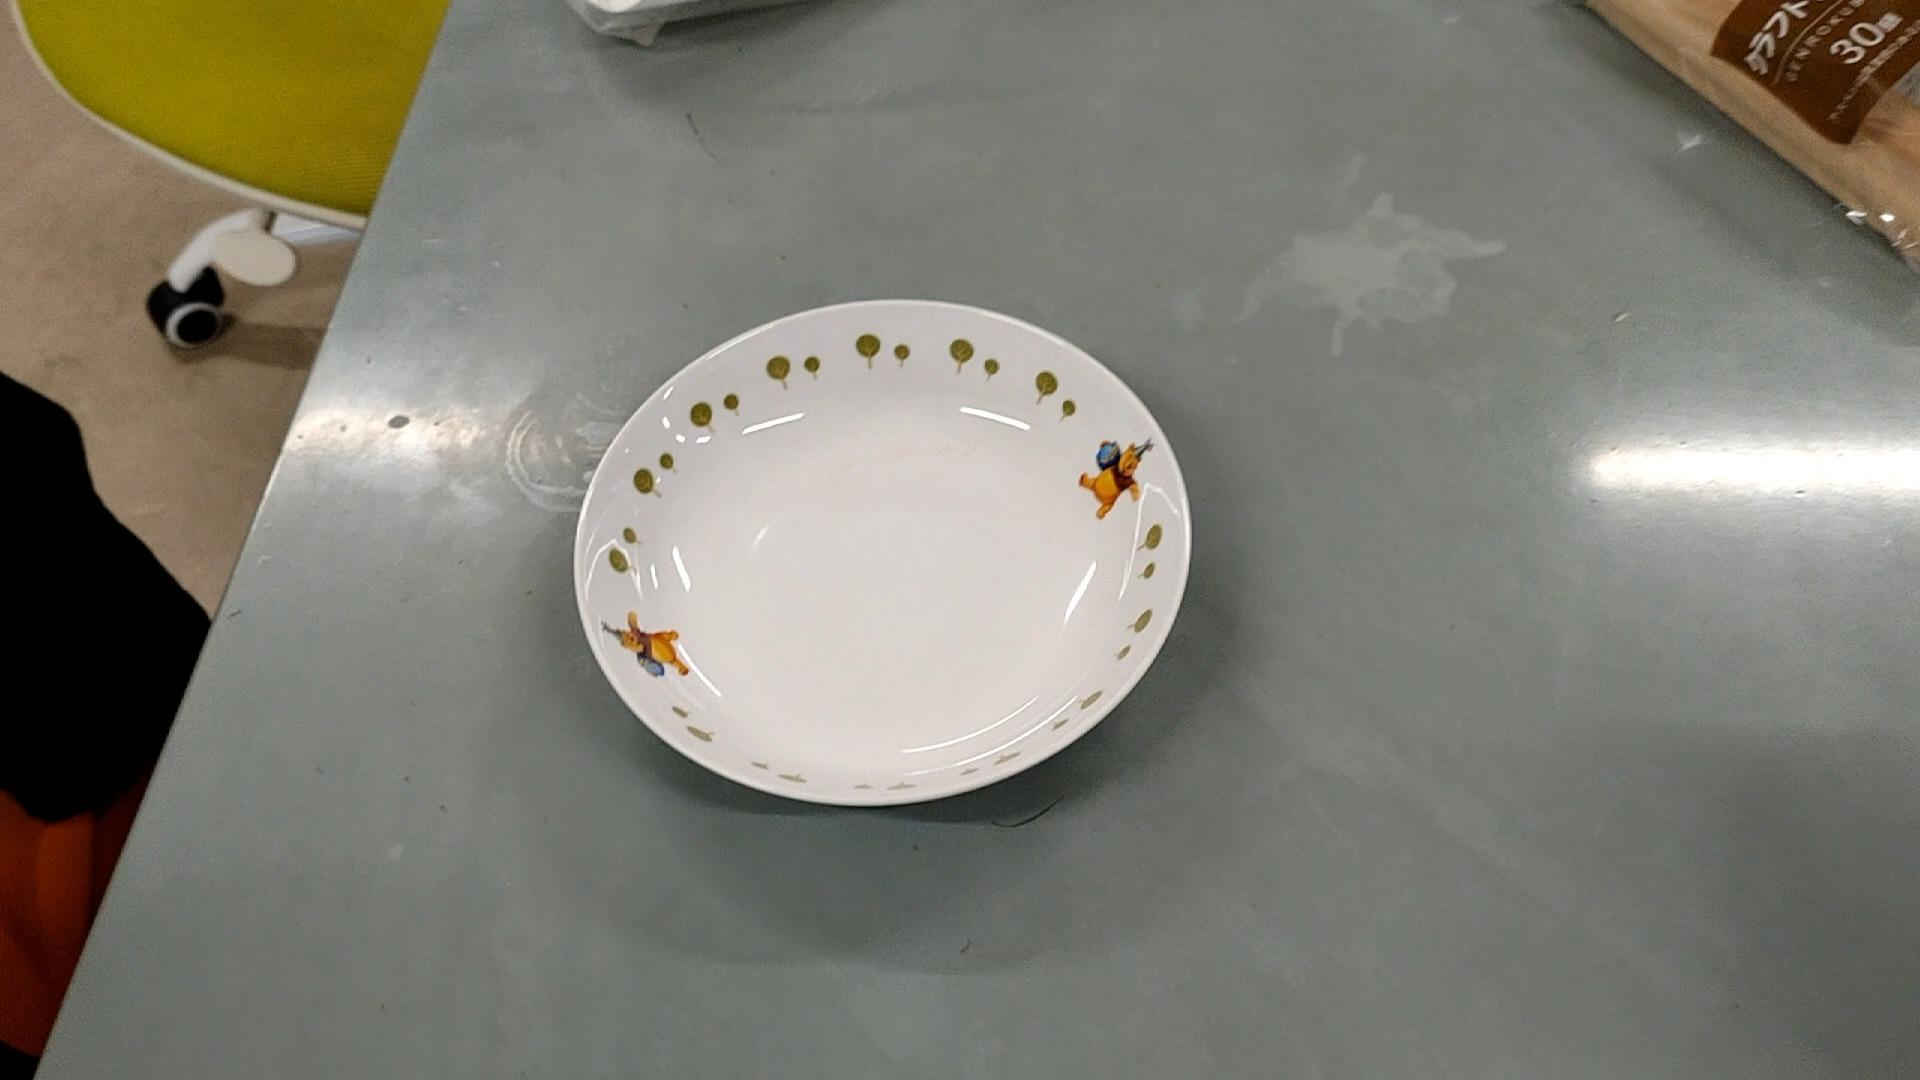plate: (578, 298, 1191, 807)
